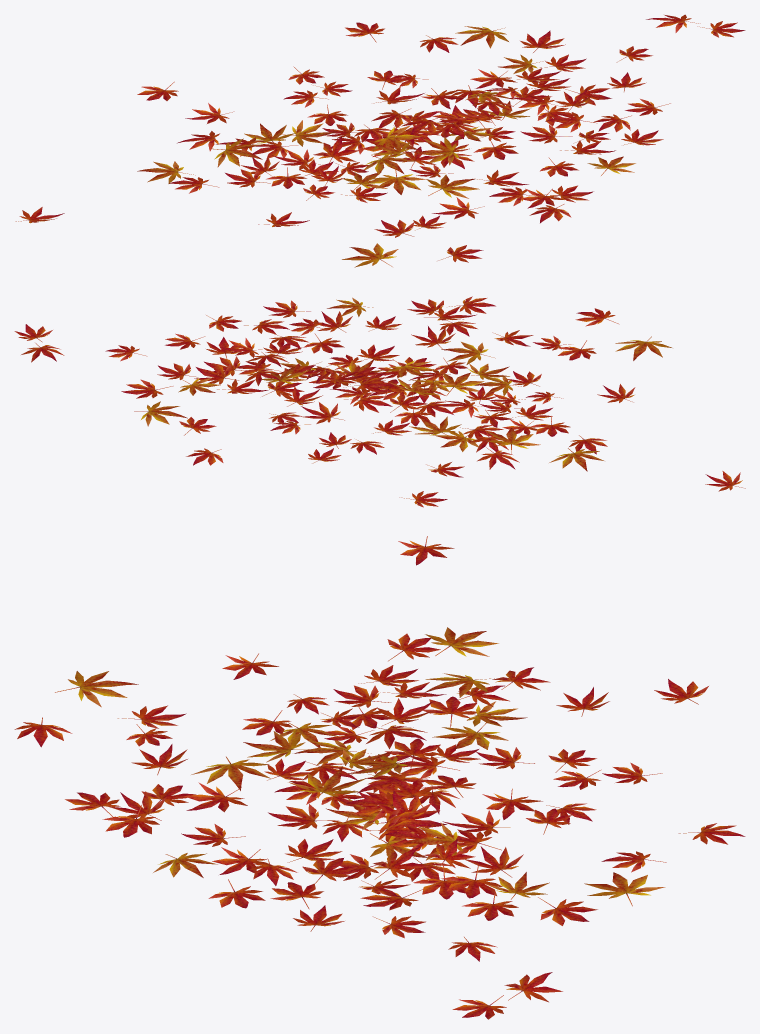
3 views of the same model, one above another, from view 1: azimuth 30°, elevation 25°; view 2: azimuth 150°, elevation 25°; view 3: azimuth 270°, elevation 25° (orthographic). The views are drawn at different scales.
Parts seen in each view (by area): view 1: ScatterMaple_High01.Shape; view 2: ScatterMaple_High01.Shape; view 3: ScatterMaple_High01.Shape.
Part boxes in pixels (bbox=[...]): ScatterMaple_High01.Shape: bbox=[15, 14, 745, 267]; ScatterMaple_High01.Shape: bbox=[14, 296, 745, 507]; ScatterMaple_High01.Shape: bbox=[14, 536, 745, 1019].
Size of the model in its own units: 310 by 4.63 by 198.
Materials: 2 (2 with a texture image).
